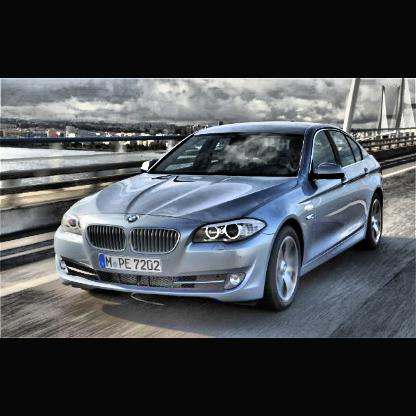BMW ActiveHybrid 5 Sedan 2012: (54, 122, 386, 314)
